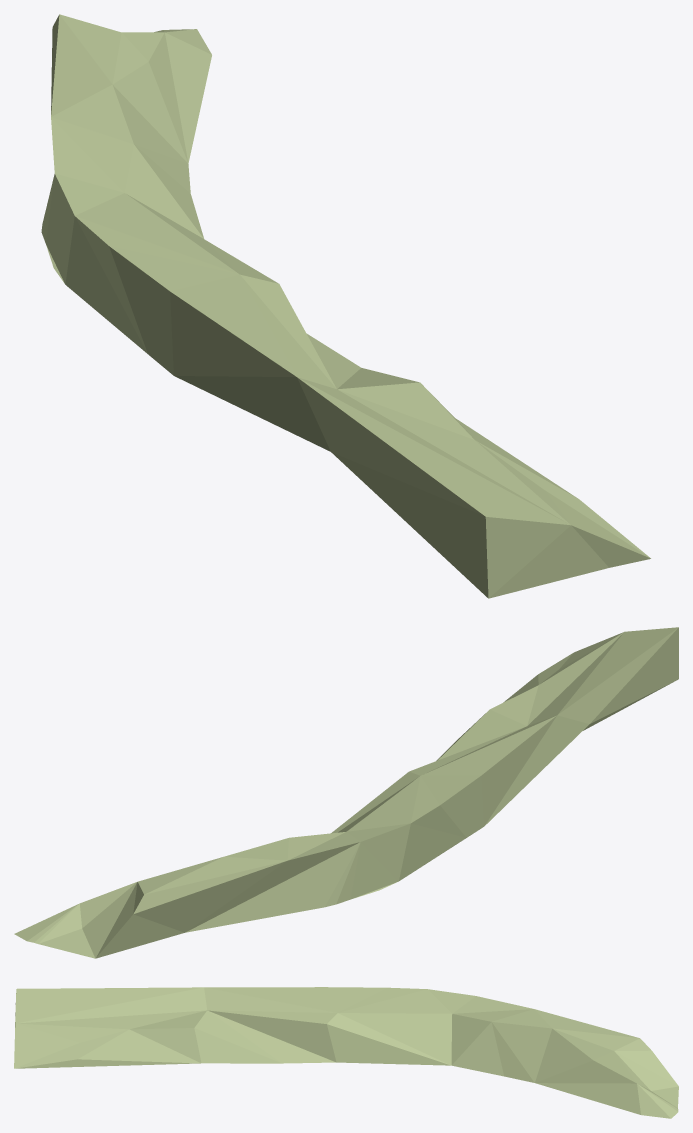
Rendered from hill_4.gltf.
3 views of the same model, one above another, from view 1: azimuth 30°, elevation 25°; view 2: azimuth 150°, elevation 25°; view 3: azimuth 270°, elevation 25° (orthographic). The views are drawn at different scales.
Parts seen in each view (by area): view 1: hill; view 2: hill; view 3: hill.
Boxes of the visible parts, left/top/right/bottom form: hill: left=41, top=14, right=650, bottom=598; hill: left=14, top=627, right=678, bottom=958; hill: left=14, top=987, right=678, bottom=1118.
Bounding box in the file's own units: 1.61 × 0.3423 × 4.93.
